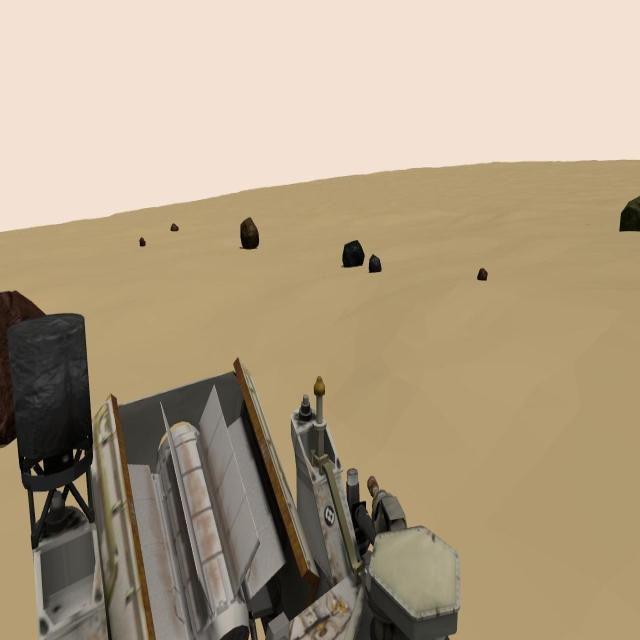rock: (1, 288, 47, 316), (619, 192, 640, 232), (342, 238, 364, 268), (240, 217, 259, 250), (368, 252, 382, 274), (477, 267, 488, 281), (139, 236, 146, 248), (170, 222, 178, 232)
